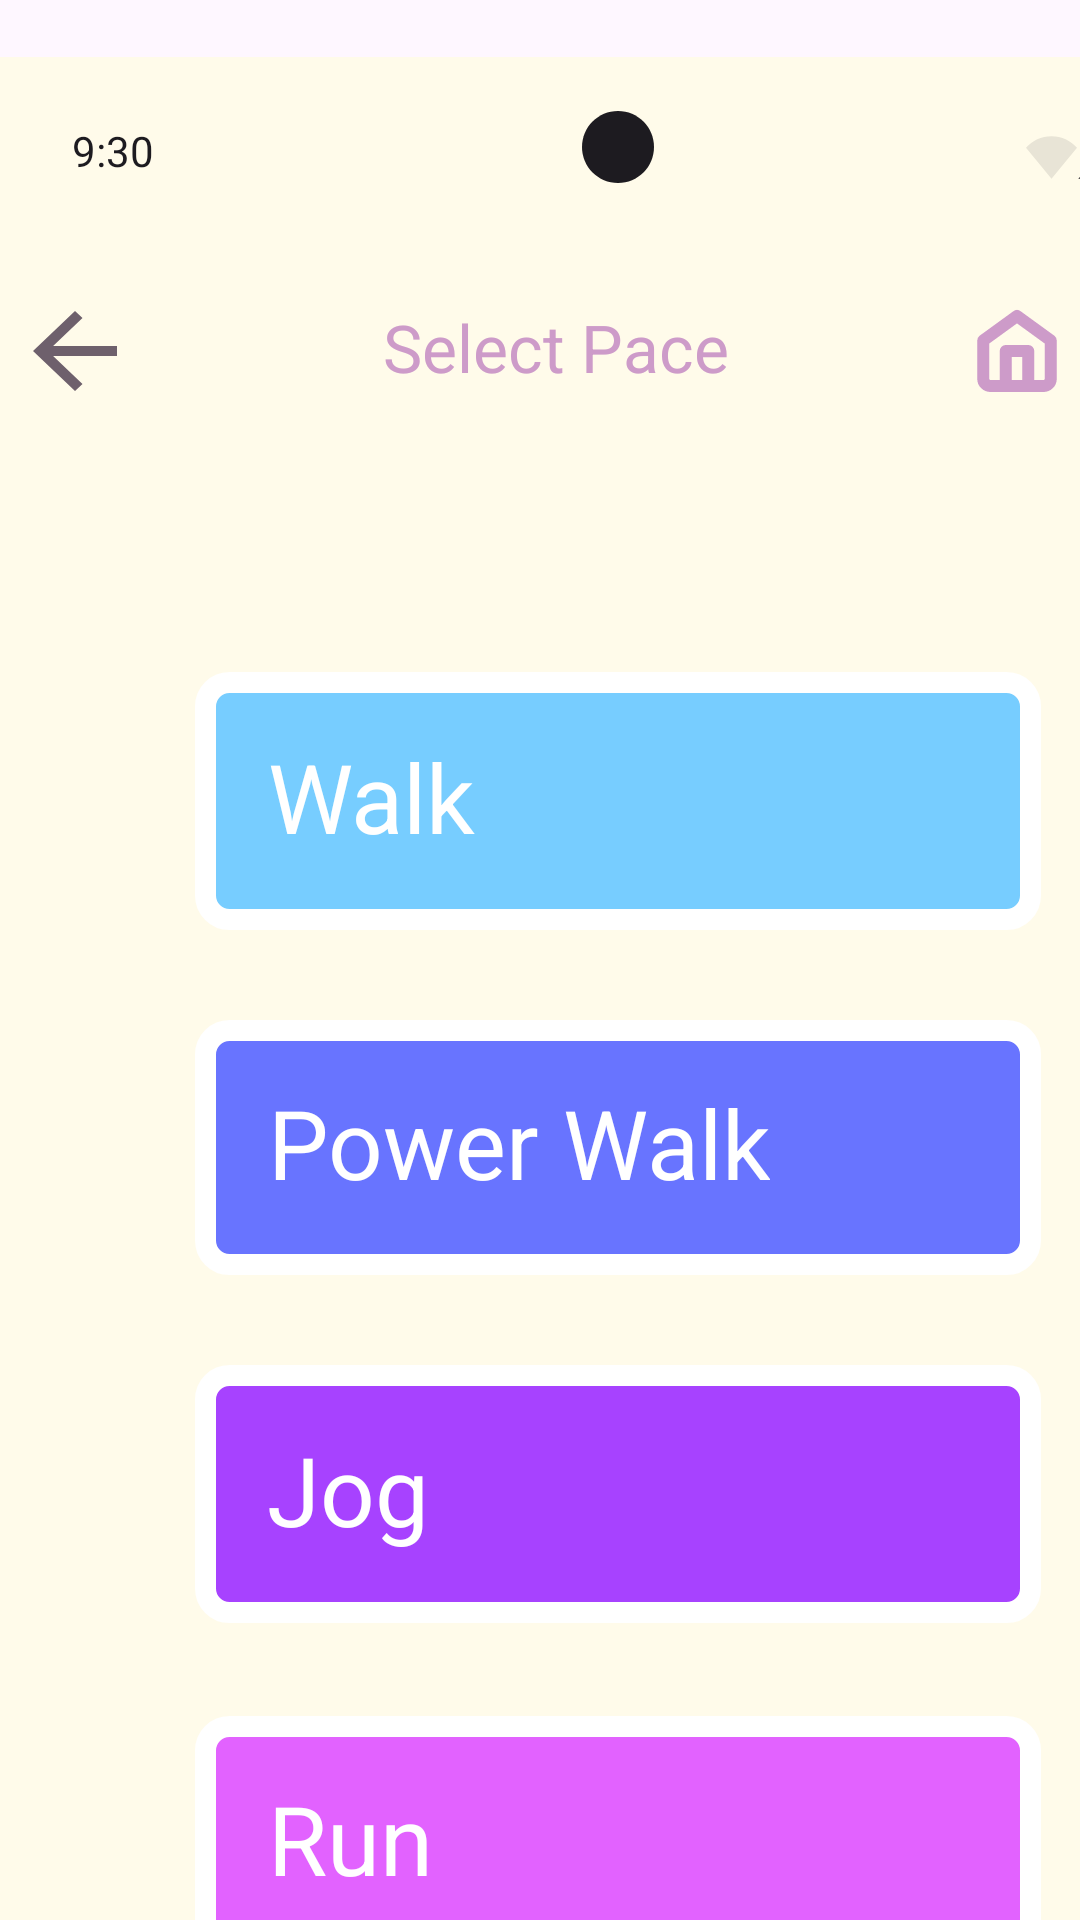

Named icons in this screenshot (1080x1920) and their bounding boxes, (x1, y1, x2, y2):
arrow back: (33, 311, 117, 391)
home: (977, 310, 1057, 392)
